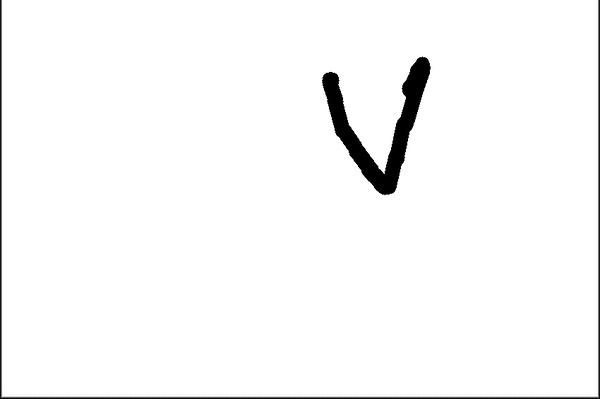V: (298, 48, 448, 203)
